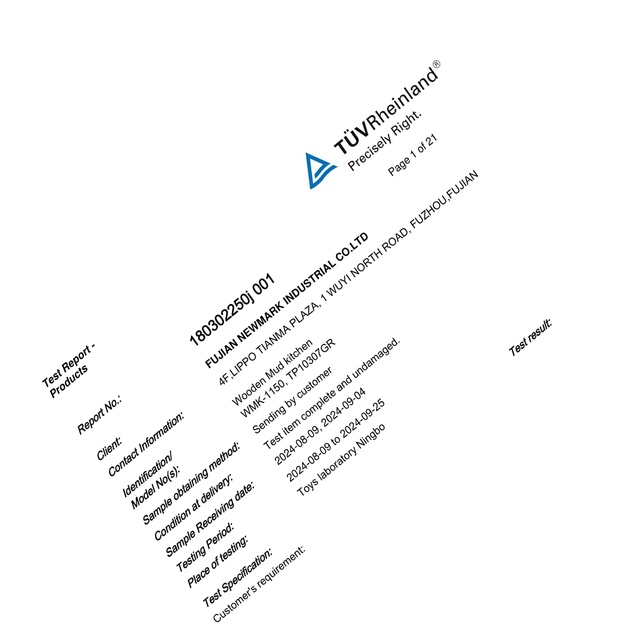tuv_rheinland: (301, 53, 445, 191)
